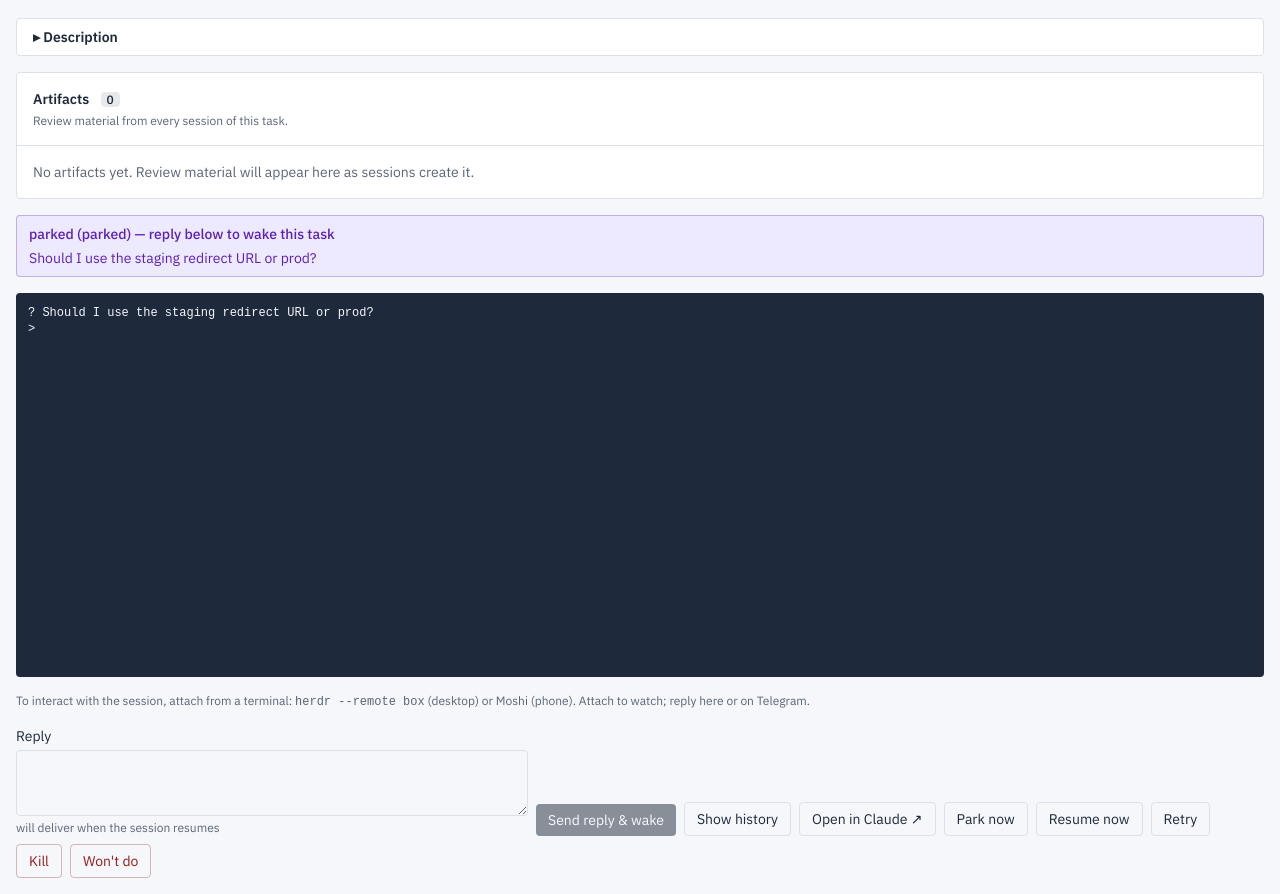
Test: toggles between the live tail and the scrollable history
(page scrolled)
Expected: the text "? Should I use the staging redirect URL or prod? >" is shown, [16,293,1264,677]
Click the button "Show history".
click(738, 819)  # box [684,802,791,836]
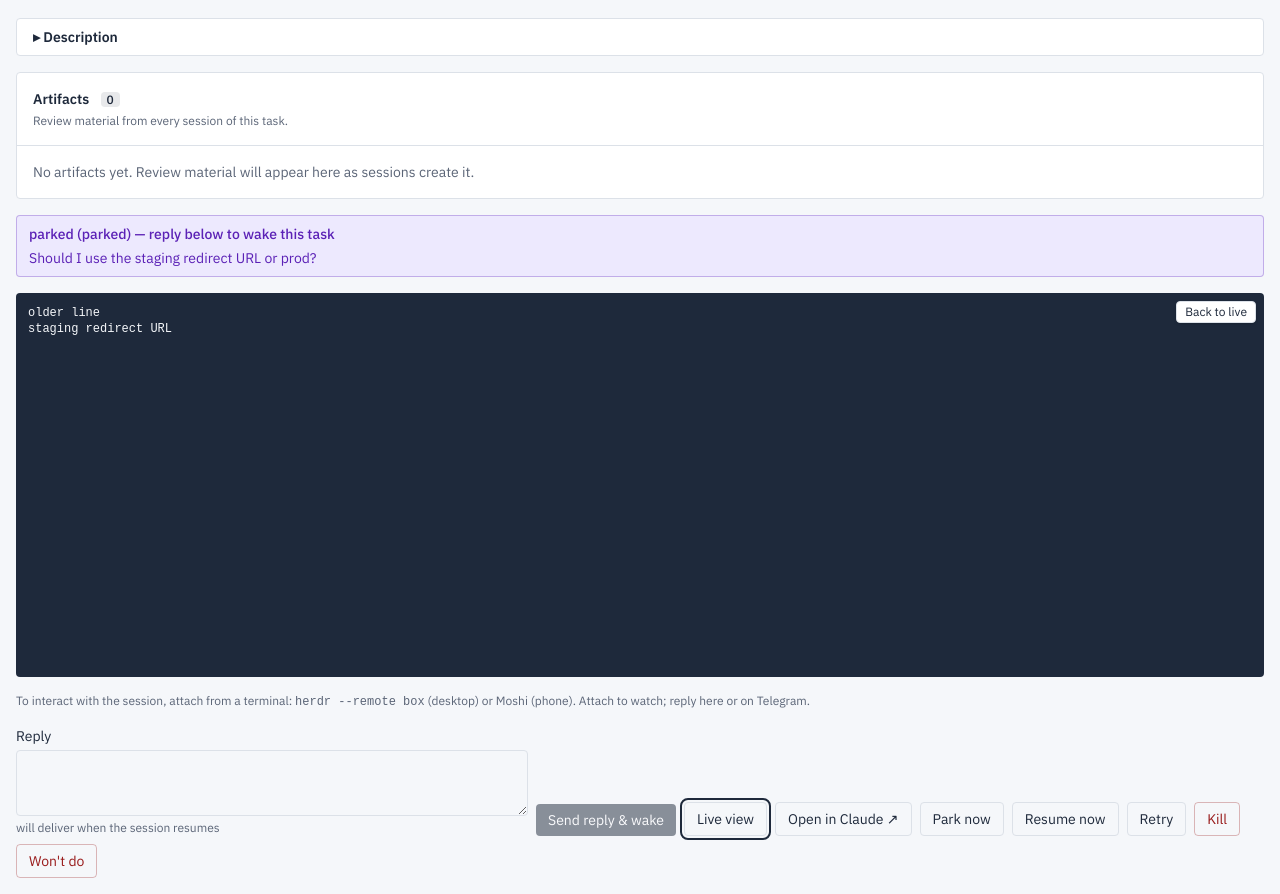
Result: the text with test id "pane-tail" is gone
Result: the text with test id "terminal-history-pane" shows "older line" at [28,306,172,336]
Click the button "Live view".
click(726, 819)  # box [684,802,767,836]
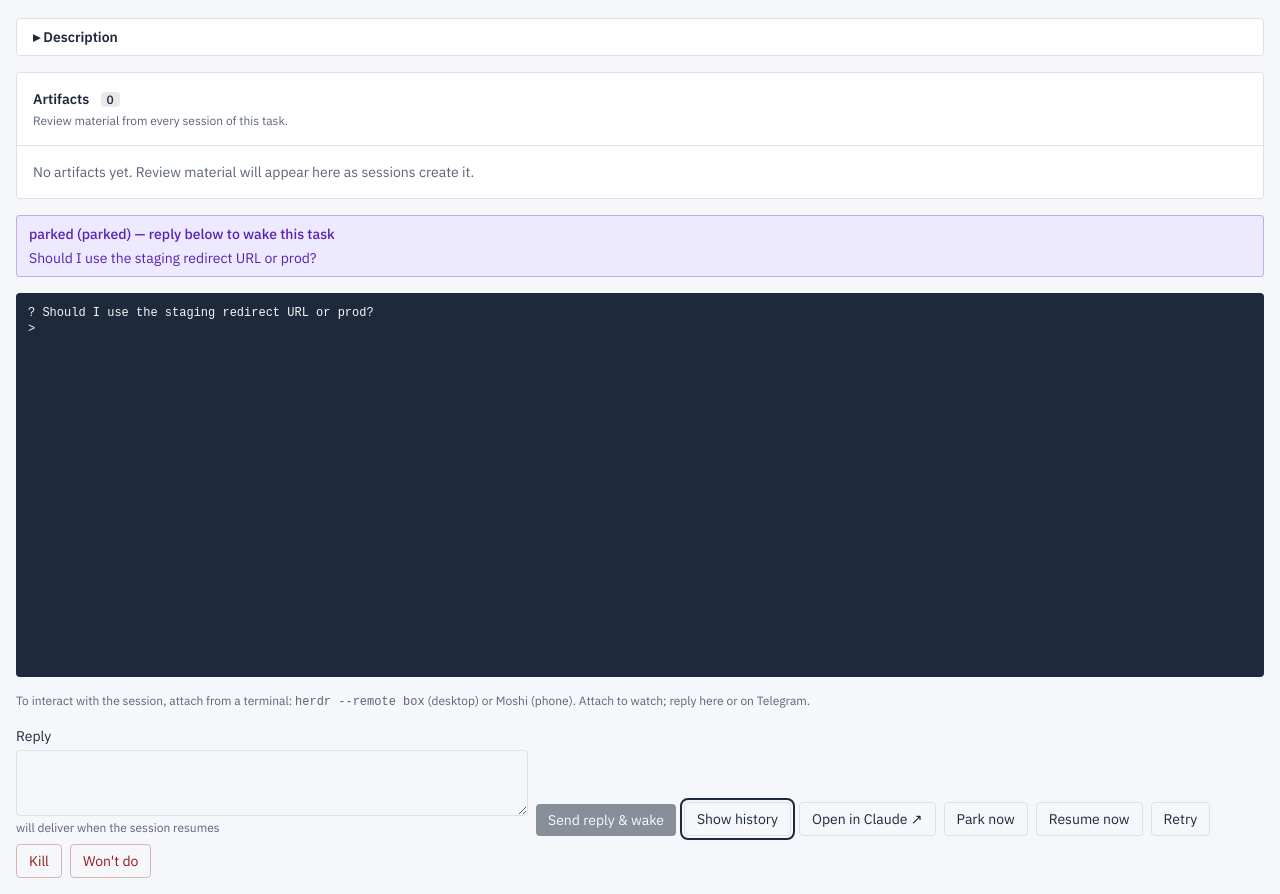
Result: the text "? Should I use the staging redirect URL or prod? >" is shown at [16,293,1264,677]
Result: the element with test id "terminal-history" is gone
